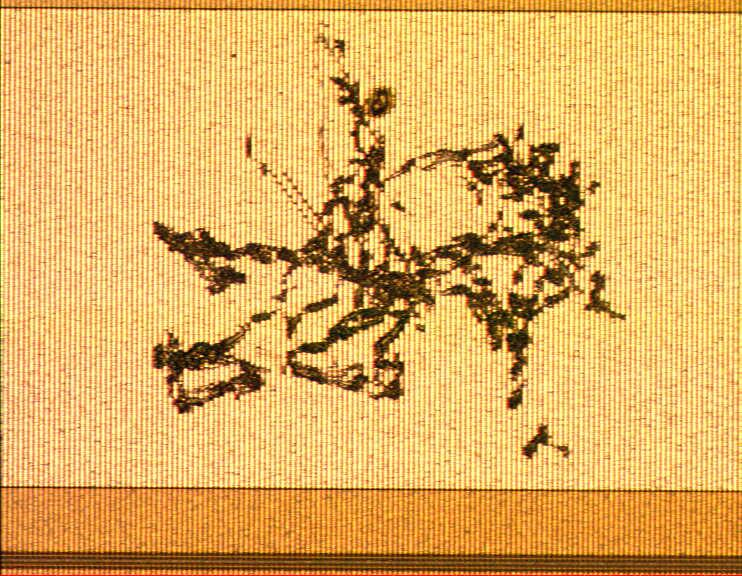SCRATCH: (141, 10, 635, 474)
